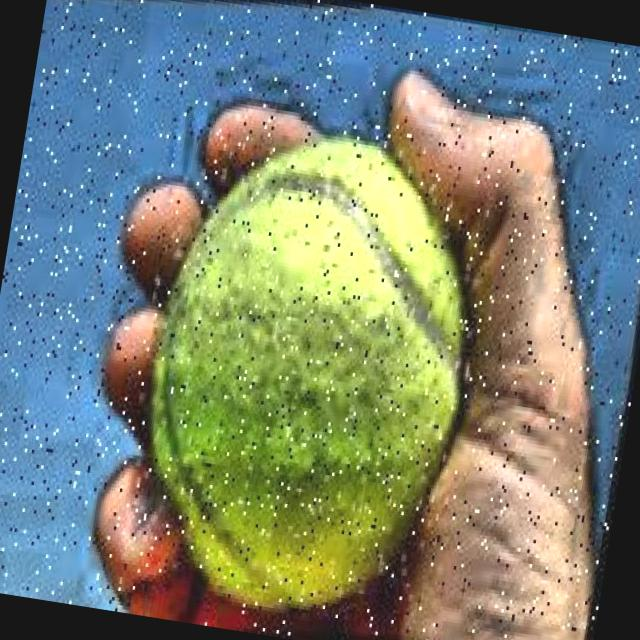Tennis Ball: (95, 93, 520, 638)
